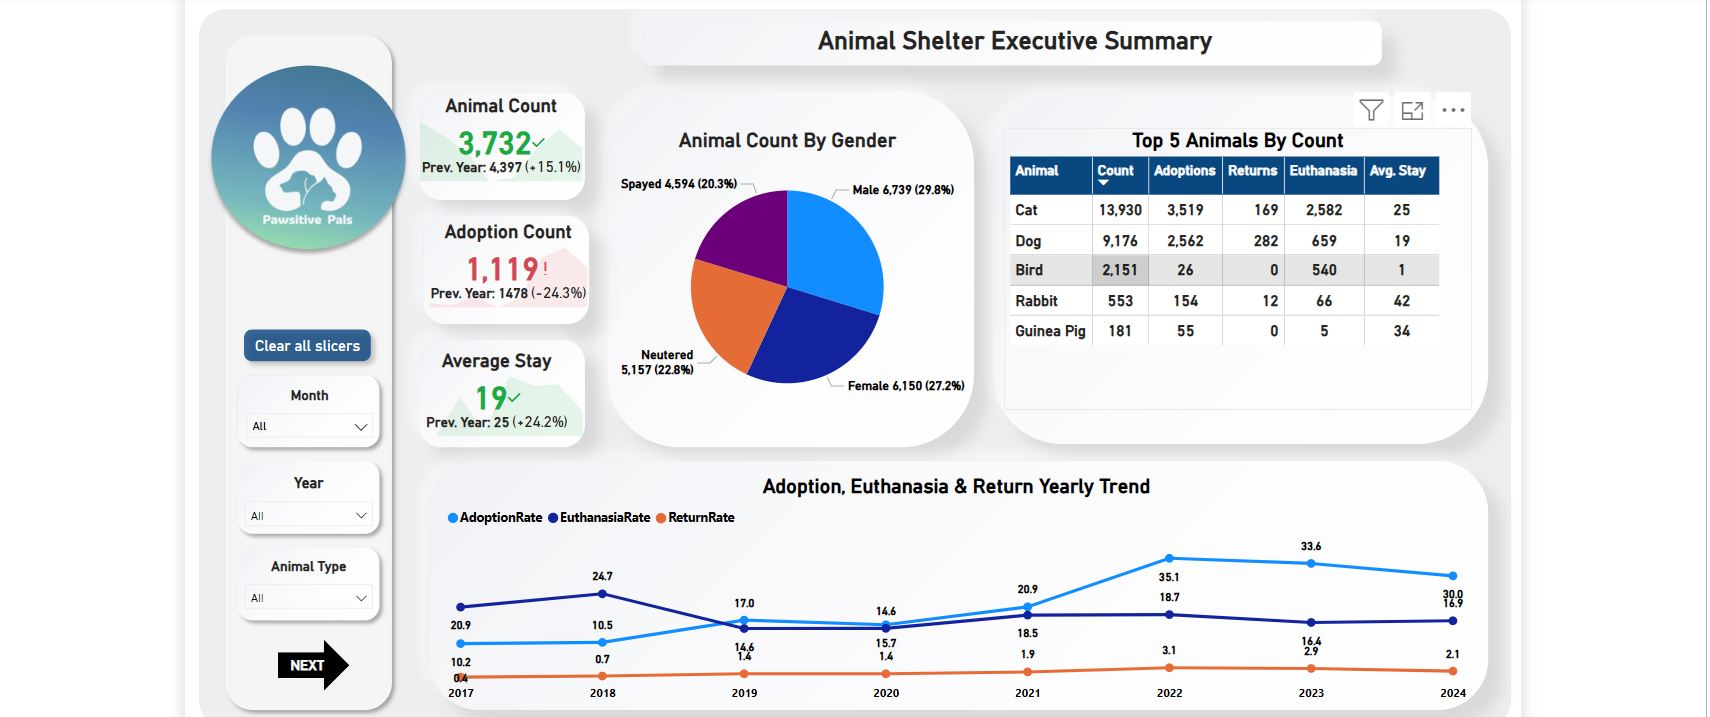

The dashboard page shown, as its layout file describes it:
{"tool":"powerbi","page":{"name":"Overview Page","canvas":[1280,720],"ordinal":0},"visuals":[{"type":"slicer","title":"Animal Type","fields":{"Values":["Dim animal.type"]},"box":[47.5,540,142.5,63.8],"z":0},{"type":"lineChart","title":"Adoption, Euthanasia & Return  Yearly Trend","fields":{"Y":["MeasureTable.AdoptionRate","MeasureTable.EuthanasiaRate","MeasureTable.ReturnRate"],"Category":["Date.Year","Date.Month"]},"box":[246.2,458.8,987.5,226.2],"z":1000},{"type":"slicer","title":"Year","fields":{"Values":["Date.Year"]},"box":[47.5,458.8,142.5,62.5],"z":2000},{"type":"slicer","title":"Month","fields":{"Values":["Date.Month"]},"box":[48.8,375,141.2,63.8],"z":3000},{"type":"image","box":[17.5,68.8,202.5,180],"z":4000},{"type":"textbox","box":[542.5,22.5,507.5,46.2],"z":5000},{"type":"tableEx","title":"Top 5 Animals By Count","fields":{"Values":["Dim animal.type","MeasureTable.Animal_Count","MeasureTable.AdoptionCount","MeasureTable.ReturneesCount","MeasureTable.EuthanasiaCount","MeasureTable.AverageLengthOfStay"]},"box":[785,126.2,448.8,270],"z":6000},{"type":"pieChart","title":"Animal Count By Gender","fields":{"Category":["Dim animal.gender"],"Y":["MeasureTable.Animal_Count"]},"box":[386.2,126.2,381.2,282.5],"z":7000},{"type":"kpi","title":"Animal Count","fields":{"TrendLine":["Date.Year"],"Indicator":["MeasureTable.Animal_Count"],"Goal":["MeasureTable.Animal_Count SPLY"]},"box":[220,95,166.2,87.5],"z":8000},{"type":"kpi","title":"Average Stay","fields":{"TrendLine":["Date.Year"],"Indicator":["MeasureTable.AverageLengthOfStay"],"Goal":["MeasureTable.AverageLengthofstay SPLY"]},"box":[211.2,340,175,87.5],"z":9000},{"type":"kpi","title":"Adoption Count","fields":{"Indicator":["MeasureTable.AdoptionCount"],"Goal":["MeasureTable.AdoptionCount SPLY"],"TrendLine":["Date.Year"]},"box":[228.8,215,162.5,87.5],"z":10000},{"type":"actionButton","box":[47.5,311.2,140,48.8],"z":11000},{"type":"shape","box":[89.4,616.2,68.9,49.5],"z":12000}]}

Visuals, with their boxes on the page's 1280x720 design canvas (x1, y1, x2, y2). These are canvas units, not pixel positions in the 1710x717 screenshot, which may show the page scaled, cropped or inside an application window:
"Animal Type" slicer: pyautogui.locateOnScreen(48, 540, 190, 604)
"Adoption, Euthanasia & Return  Yearly Trend" lineChart: pyautogui.locateOnScreen(246, 459, 1234, 685)
"Year" slicer: pyautogui.locateOnScreen(48, 459, 190, 521)
"Month" slicer: pyautogui.locateOnScreen(49, 375, 190, 439)
image: pyautogui.locateOnScreen(18, 69, 220, 249)
textbox: pyautogui.locateOnScreen(542, 22, 1050, 69)
"Top 5 Animals By Count" tableEx: pyautogui.locateOnScreen(785, 126, 1234, 396)
"Animal Count By Gender" pieChart: pyautogui.locateOnScreen(386, 126, 767, 409)
"Animal Count" kpi: pyautogui.locateOnScreen(220, 95, 386, 182)
"Average Stay" kpi: pyautogui.locateOnScreen(211, 340, 386, 428)
"Adoption Count" kpi: pyautogui.locateOnScreen(229, 215, 391, 302)
actionButton: pyautogui.locateOnScreen(48, 311, 188, 360)
shape: pyautogui.locateOnScreen(89, 616, 158, 666)
